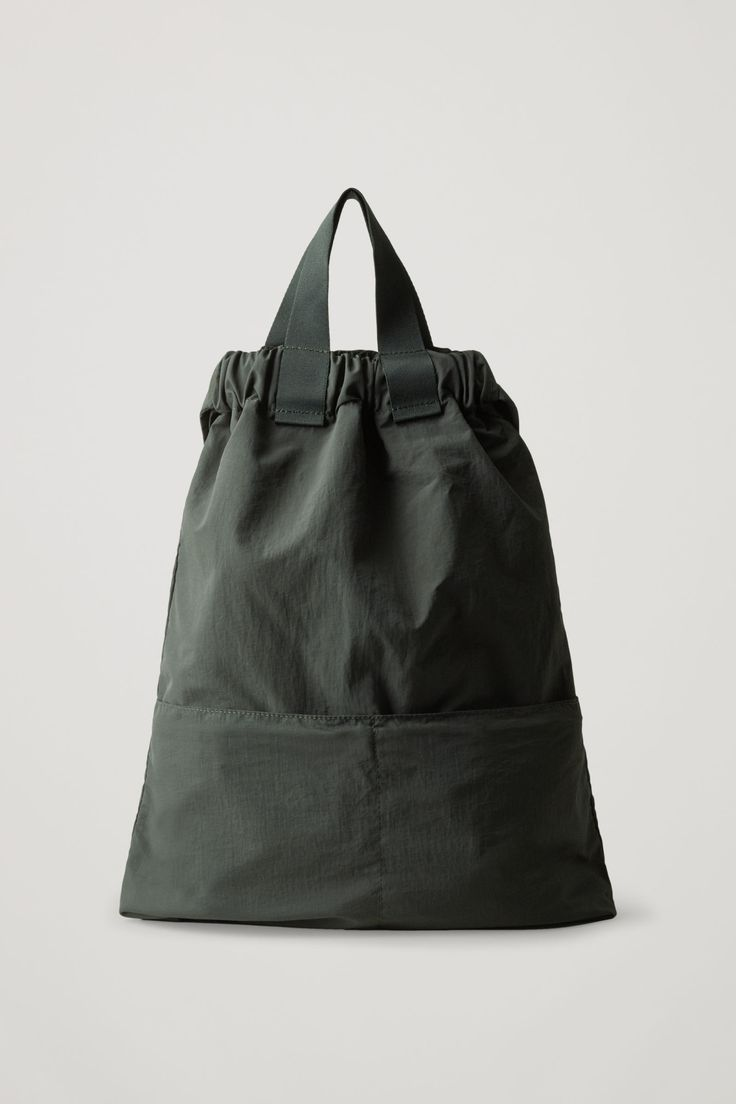nylon: (120, 187, 617, 930)
